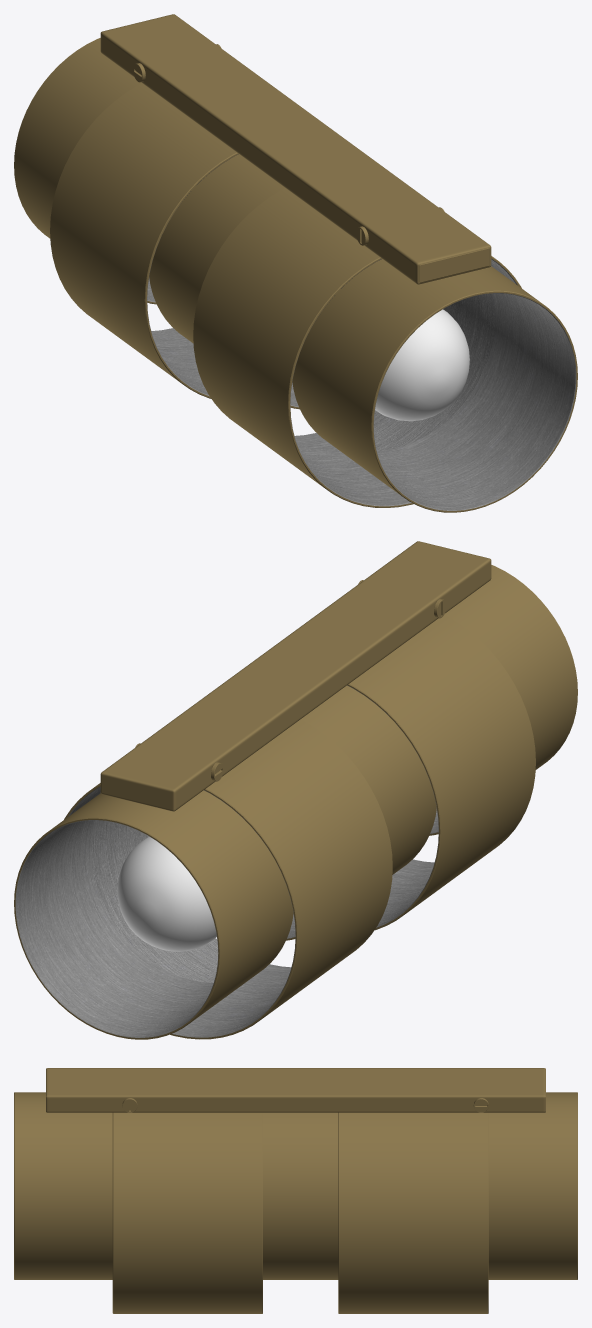
The model's file is wall_lamp.obj.
The picture shows the model from 3 angles, top to bottom: view 1: azimuth 30°, elevation 25°; view 2: azimuth 150°, elevation 25°; view 3: azimuth 270°, elevation 25°; orthographic projection. The views are drawn at different scales.
Parts seen in each view (by area): view 1: CTO_Lighting_Ring_Wall_mat1; view 2: CTO_Lighting_Ring_Wall_mat1; view 3: CTO_Lighting_Ring_Wall_mat1.
Boxes of the visible parts, left/top/right/bottom form: CTO_Lighting_Ring_Wall_mat1: left=14, top=14, right=577, bottom=512; CTO_Lighting_Ring_Wall_mat1: left=14, top=541, right=577, bottom=1039; CTO_Lighting_Ring_Wall_mat1: left=14, top=1068, right=577, bottom=1313.
Size of the model in its own units: 12 by 13 by 30.
